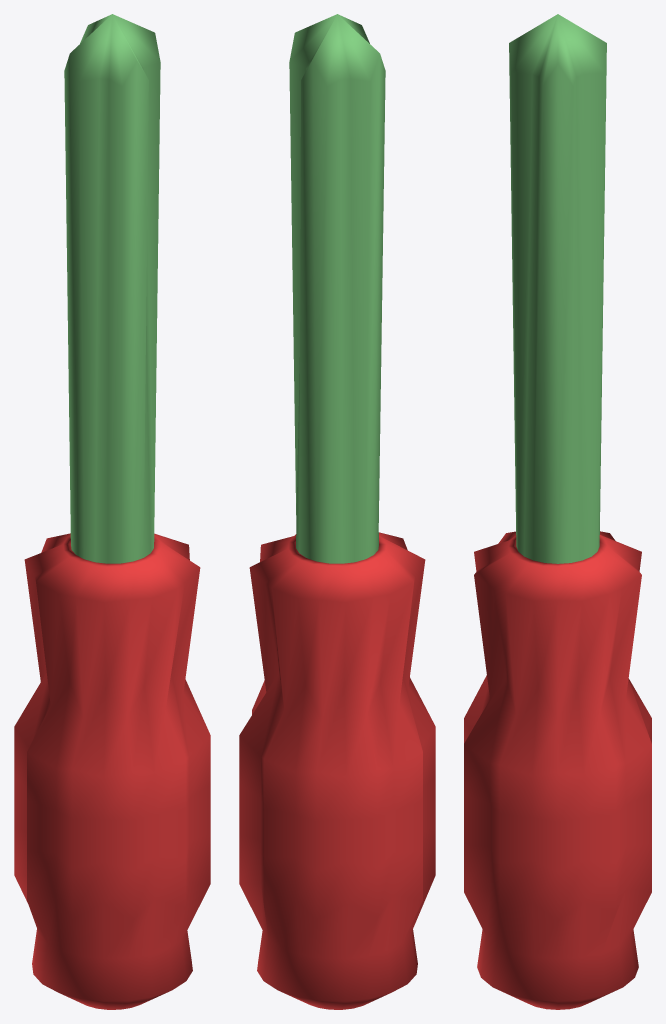
Rendered from Screwdriver.fbx.
3 views of the same model, side by side, from view 1: azimuth 30°, elevation 25°; view 2: azimuth 150°, elevation 25°; view 3: azimuth 270°, elevation 25° (orthographic).
Parts seen in each view (by area): view 1: pCylinder1; view 2: pCylinder1; view 3: pCylinder1.
Part boxes in pixels (<box>): pCylinder1: <box>14,14,210,1009</box>; pCylinder1: <box>239,14,435,1009</box>; pCylinder1: <box>464,14,651,1009</box>.
Size of the model in its own units: 2 by 11.06 by 1.9.
